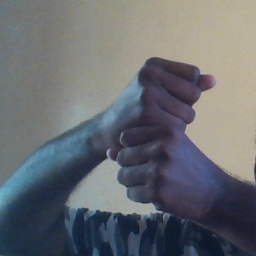G: (107, 54, 219, 215)
